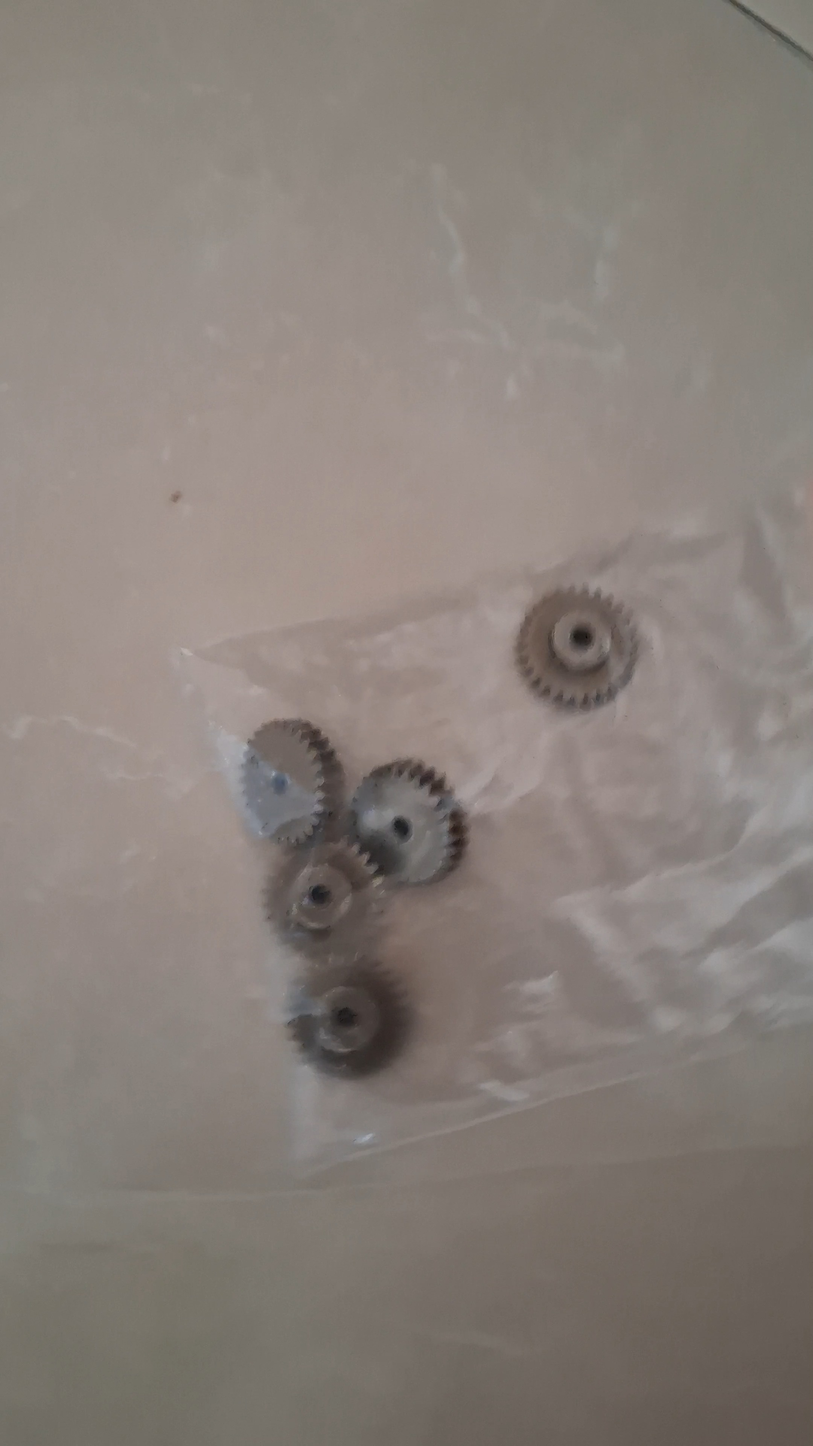spur gear: (287, 959, 410, 1077), (516, 589, 637, 708), (350, 760, 466, 884), (266, 840, 383, 959), (242, 719, 341, 844)
